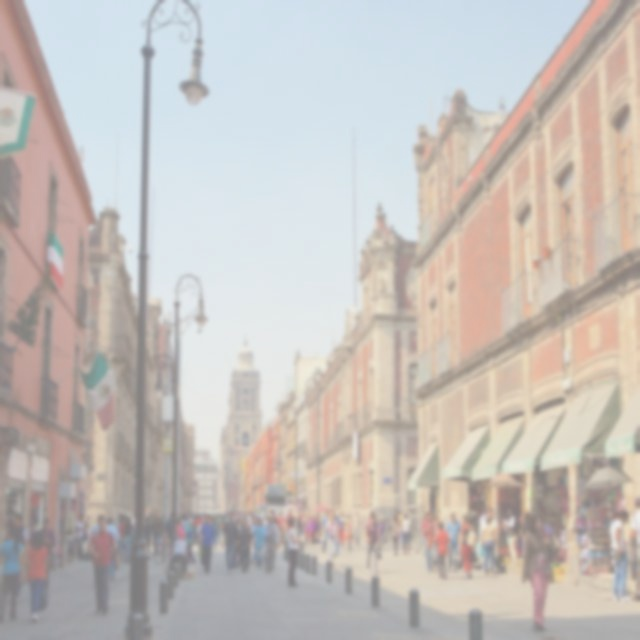pessoa: (178, 508, 294, 550), (520, 512, 556, 634), (82, 506, 152, 560), (88, 516, 120, 615), (294, 506, 348, 556), (24, 530, 50, 624), (0, 524, 24, 624), (609, 508, 633, 603), (13, 512, 31, 603), (38, 517, 56, 600), (458, 512, 478, 580), (197, 512, 217, 576), (628, 497, 640, 602), (220, 510, 238, 576), (286, 514, 302, 588), (501, 505, 520, 567), (444, 510, 462, 572), (542, 518, 566, 564), (480, 514, 498, 575), (364, 514, 382, 574), (433, 520, 451, 580), (105, 517, 121, 581), (262, 512, 278, 575), (323, 511, 340, 569), (249, 516, 267, 570), (421, 510, 436, 574), (238, 516, 253, 575), (167, 538, 188, 580), (74, 510, 88, 560), (184, 516, 198, 565), (162, 510, 176, 559), (249, 516, 261, 566), (196, 516, 207, 570), (122, 516, 134, 565), (520, 512, 532, 558), (389, 513, 401, 557), (233, 516, 242, 570), (401, 512, 412, 556), (482, 506, 498, 534), (478, 506, 489, 545), (337, 510, 347, 547), (395, 510, 404, 550), (175, 516, 188, 542), (378, 514, 388, 547), (352, 510, 361, 545), (378, 268, 386, 294), (366, 510, 376, 524), (432, 516, 440, 532), (242, 432, 250, 448)
